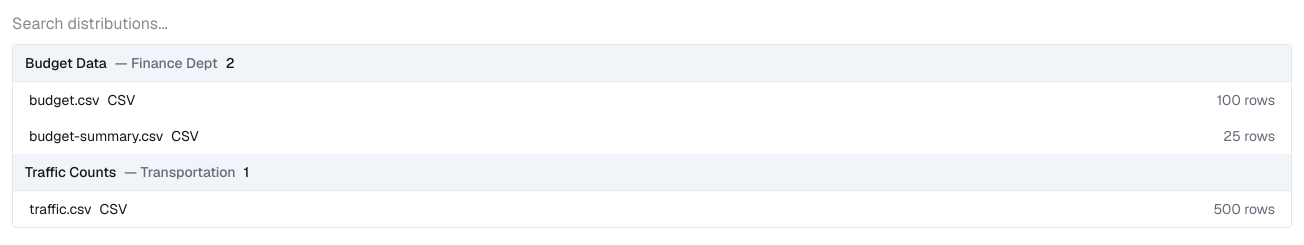
DistributionPicker › filters by search text matching dataset title
Type "budget" into the field labelled "Search distributions".
click(121, 24); type("budget")  # box [12,12,230,36]
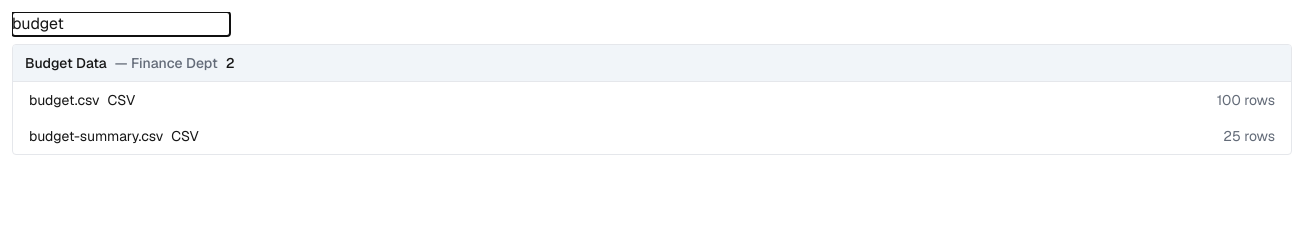
Expected: the text "Budget Data" is shown, [25,53,107,73]
Expected: the text "Traffic Counts" is gone
